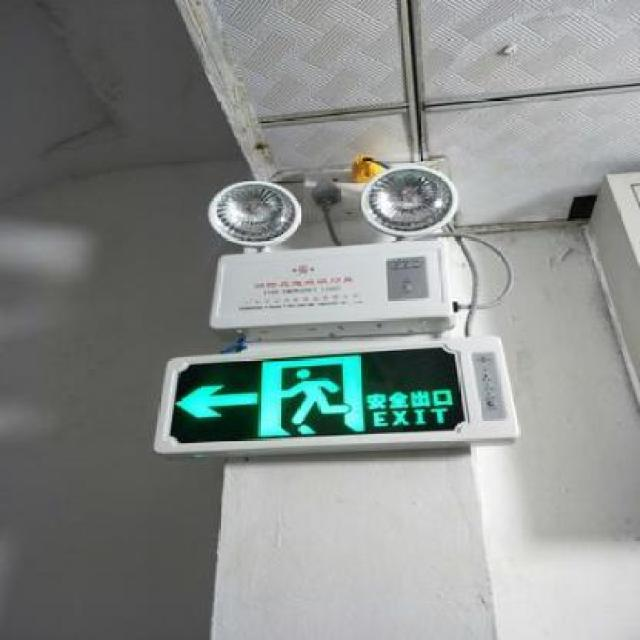exit_sign: (174, 356, 475, 448)
